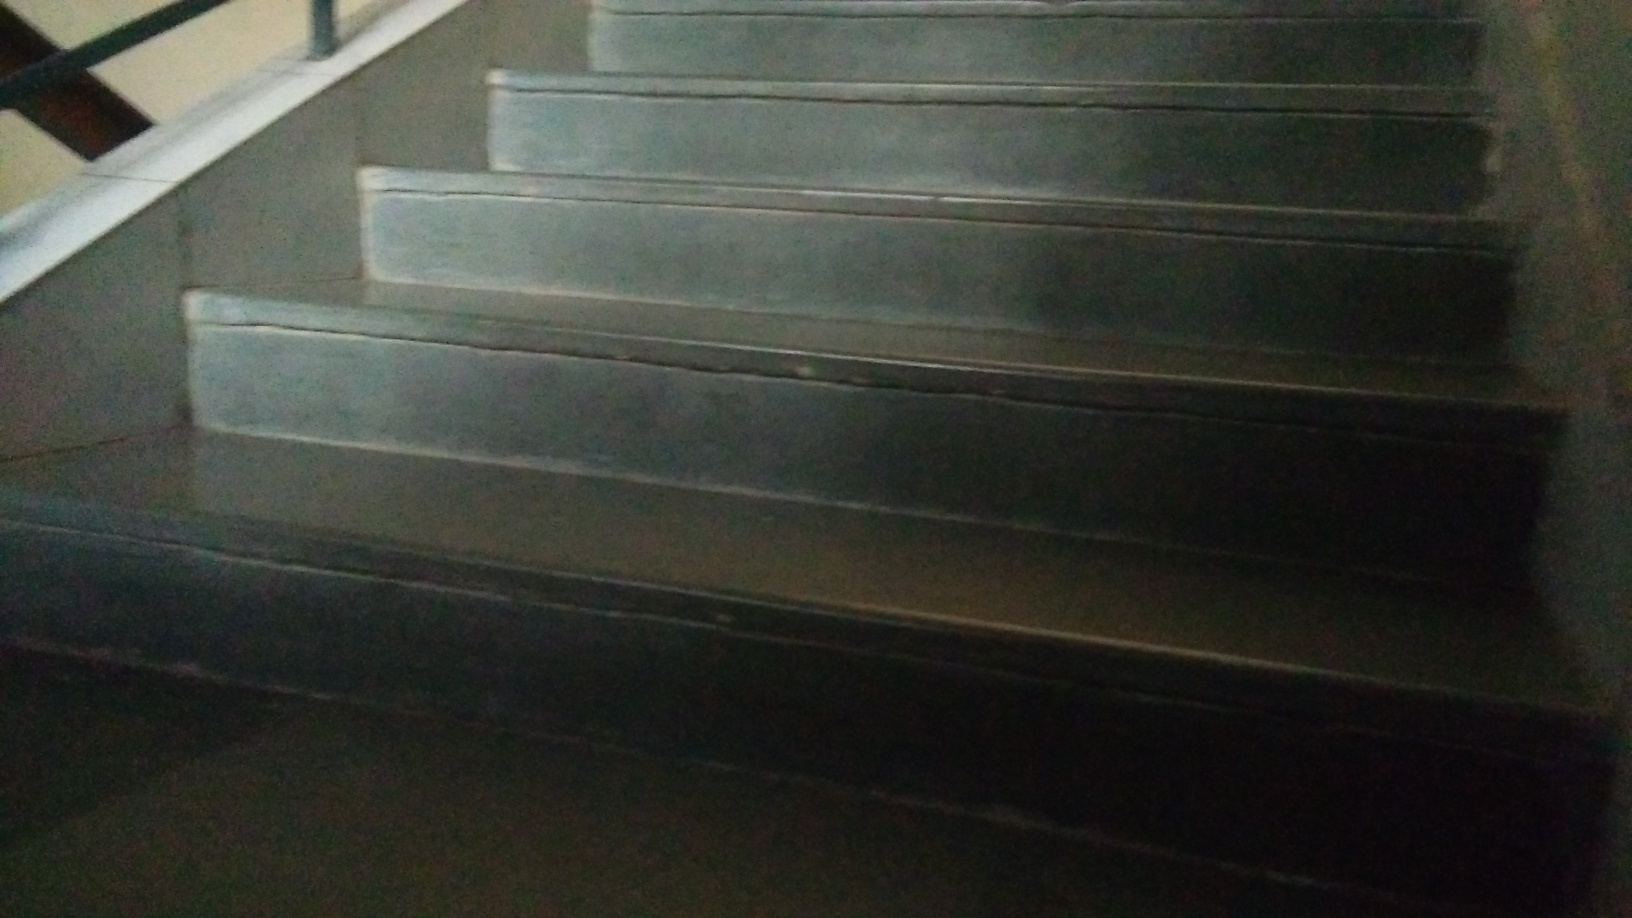stairs_up: (1, 12, 1599, 680)
